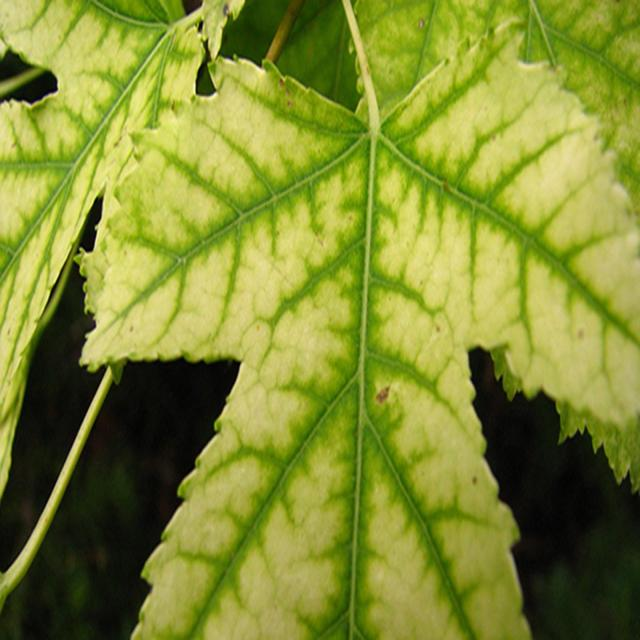Chlorosis: (6, 2, 640, 626)
